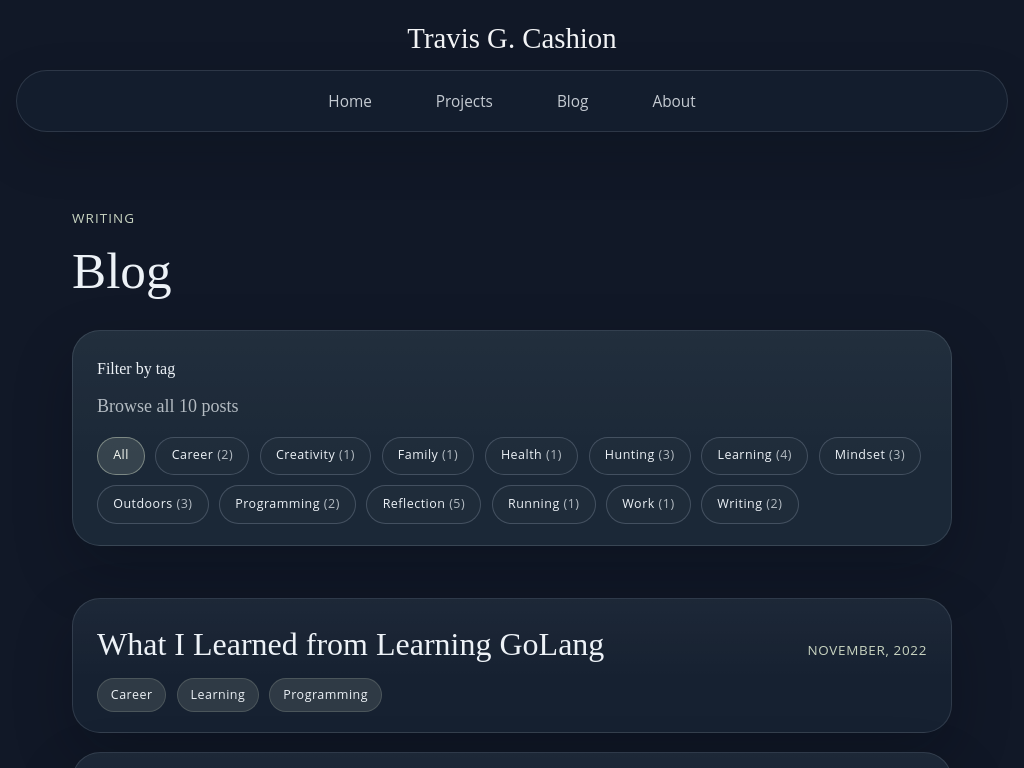
Test case: PostsHome › clears the active tag filter and restores the full list
The width and height of the screenshot is (1024, 768).
What coordinates should you click on to do the following:
click the button "Mindset (3)"
I would click on:
 (870, 456)
Its box is [819,436,921,475].
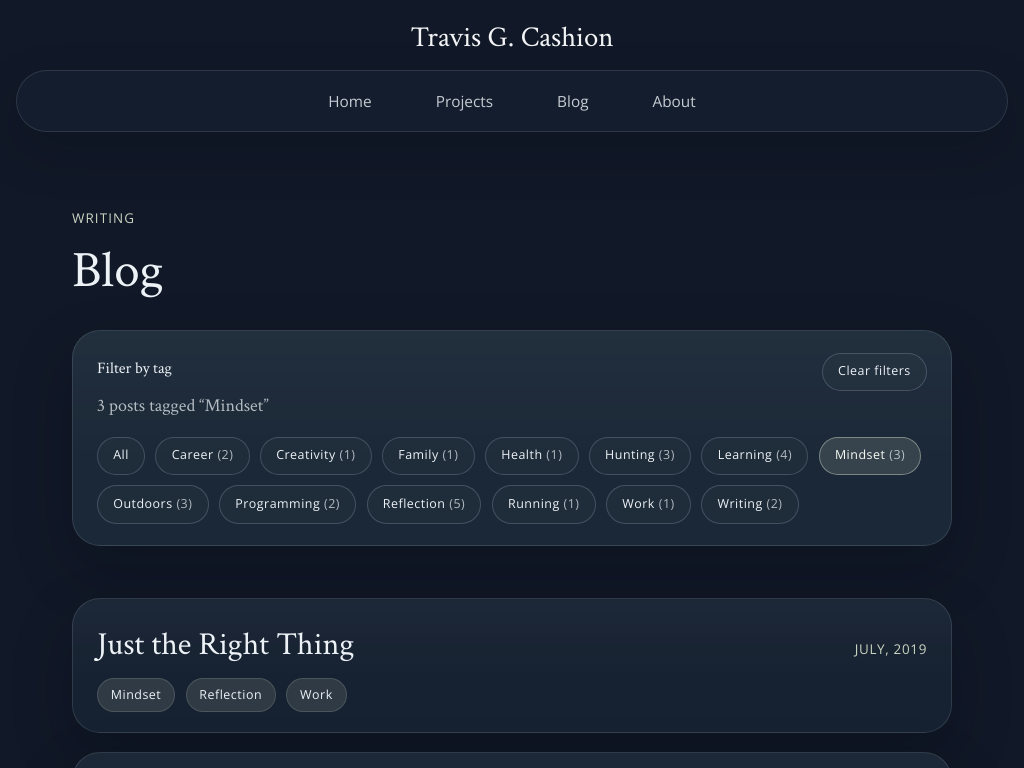
Result: the button "Clear filters" is shown
What coordinates should you click on to do the following:
click the button "Clear filters"
I would click on:
 (874, 372)
Its box is [822,352,927,391].
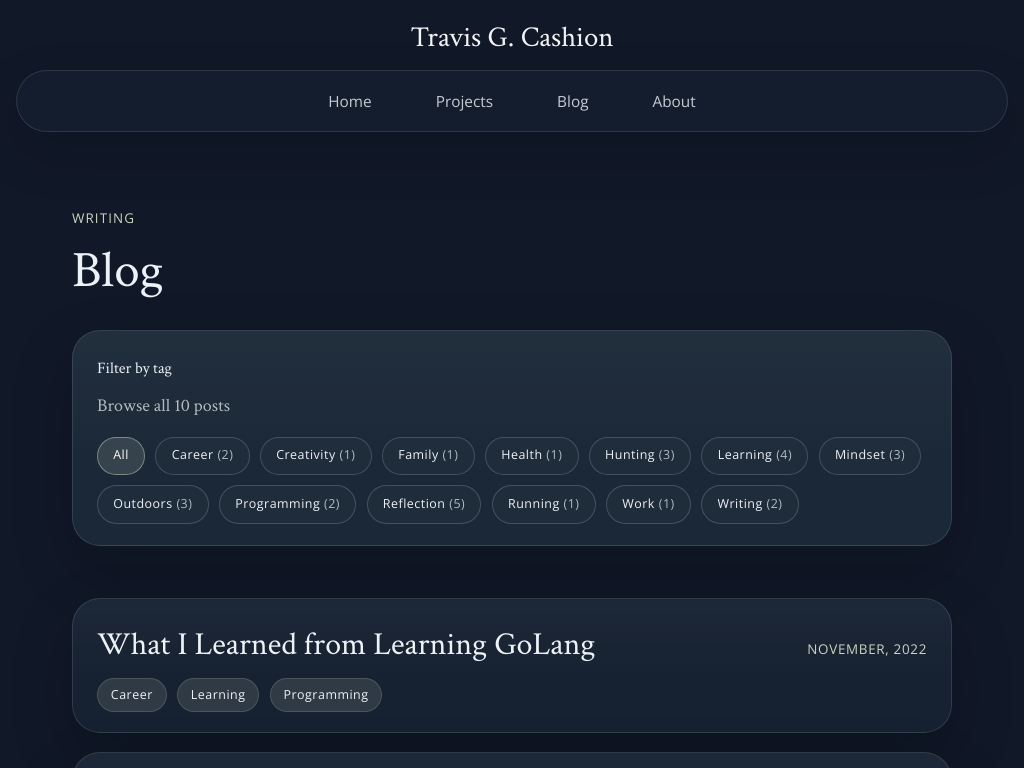
Result: the heading "What I Learned from Learning GoLang" is shown at [97,626,595,664]
